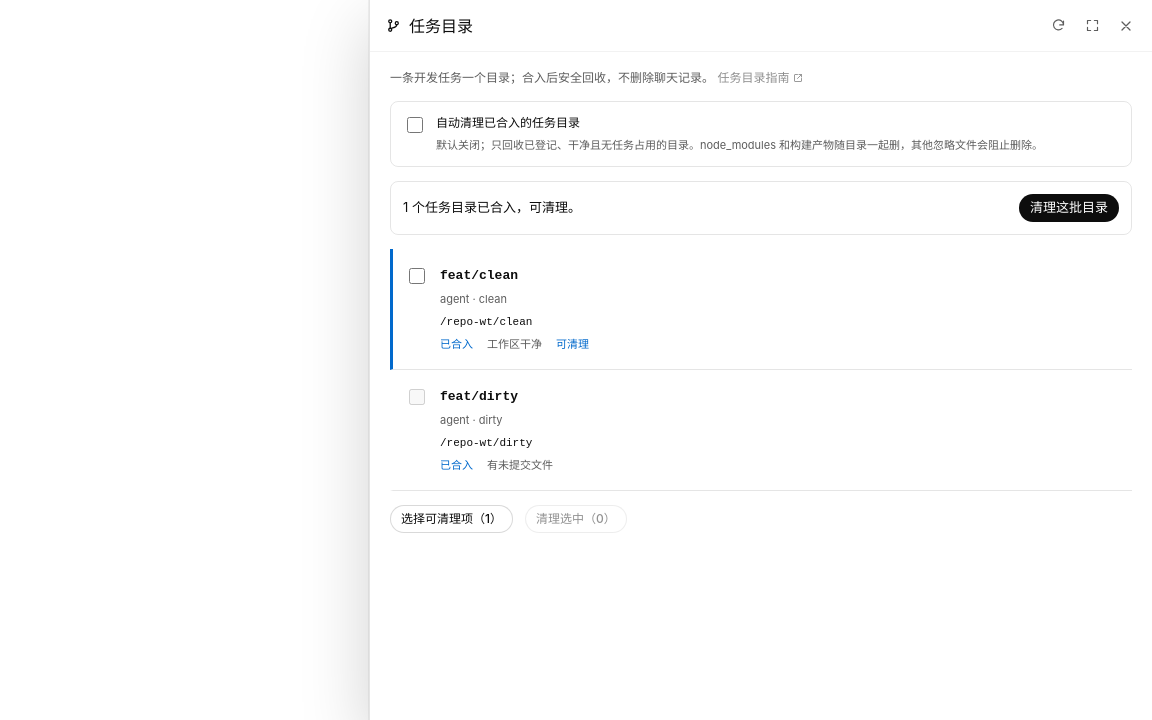
WorktreePanel › removes a stale batch action after the last eligible checkout is cleaned
Expected: the text "清理这批目录" is shown, [1030,201,1108,214]
Step 1. Click the button "选择可清理项（1）" → (452, 519), box [390,505,513,533]
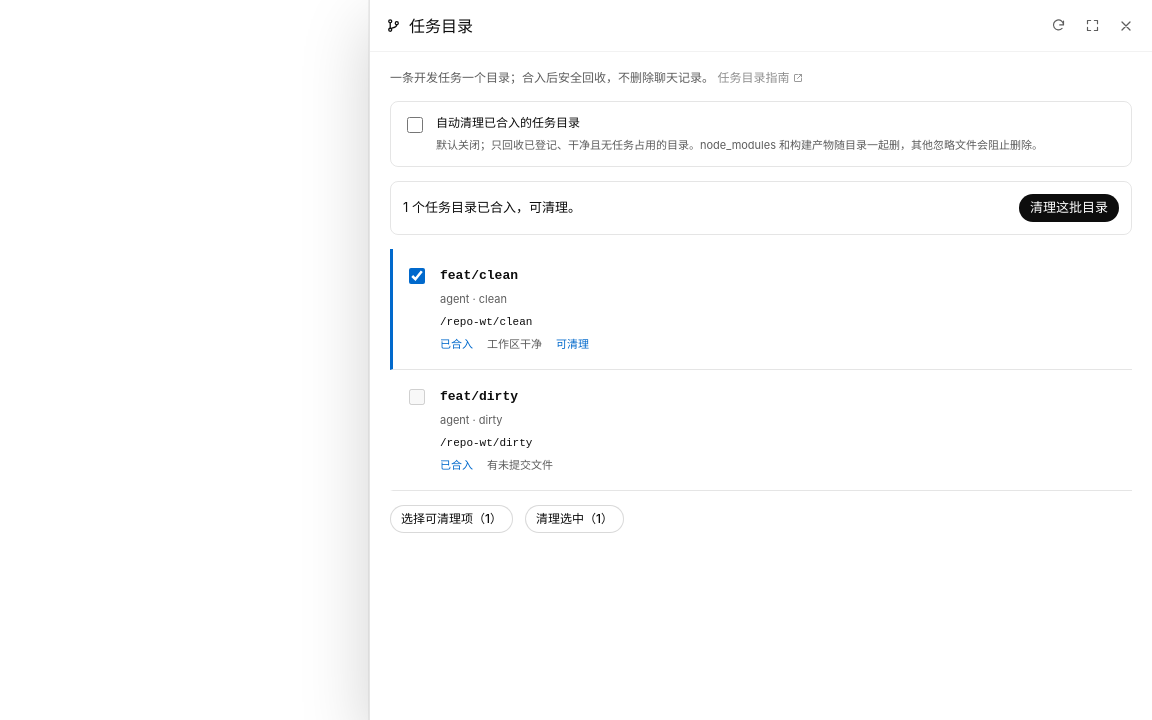
Step 2. Click the button "清理选中（1）" → (574, 519), box [525,505,624,533]
(page scrolled)
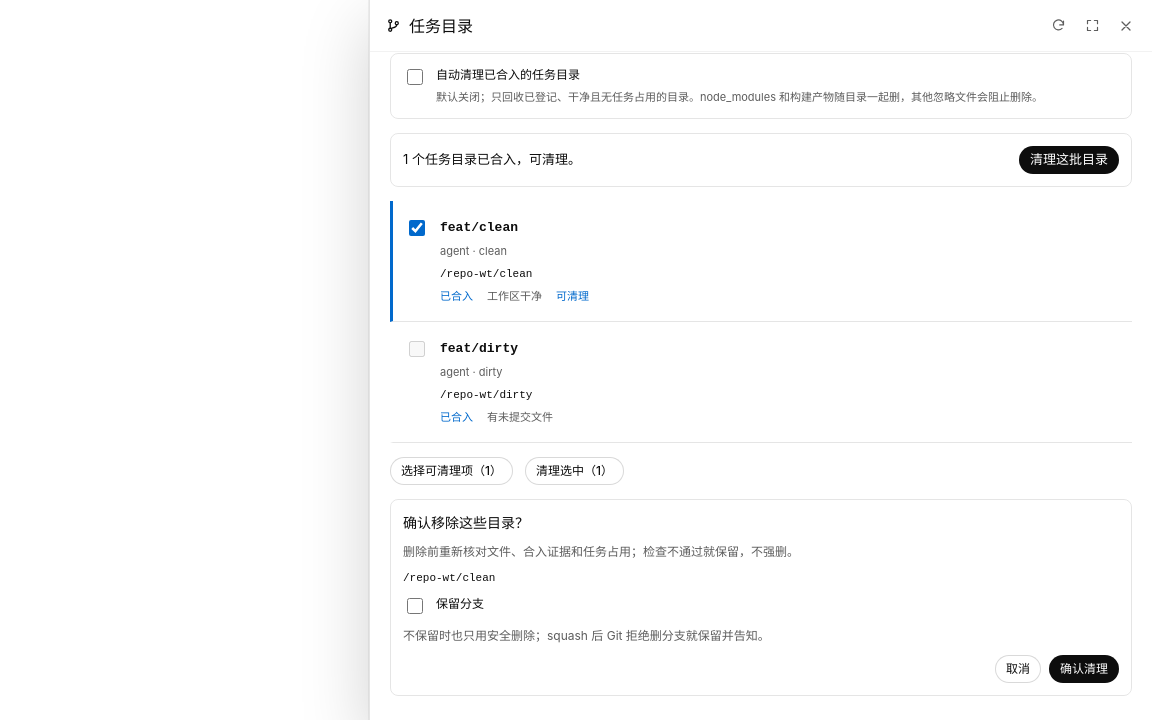
Step 3. Click the button "确认清理" → (1084, 669), box [1049,655,1119,683]
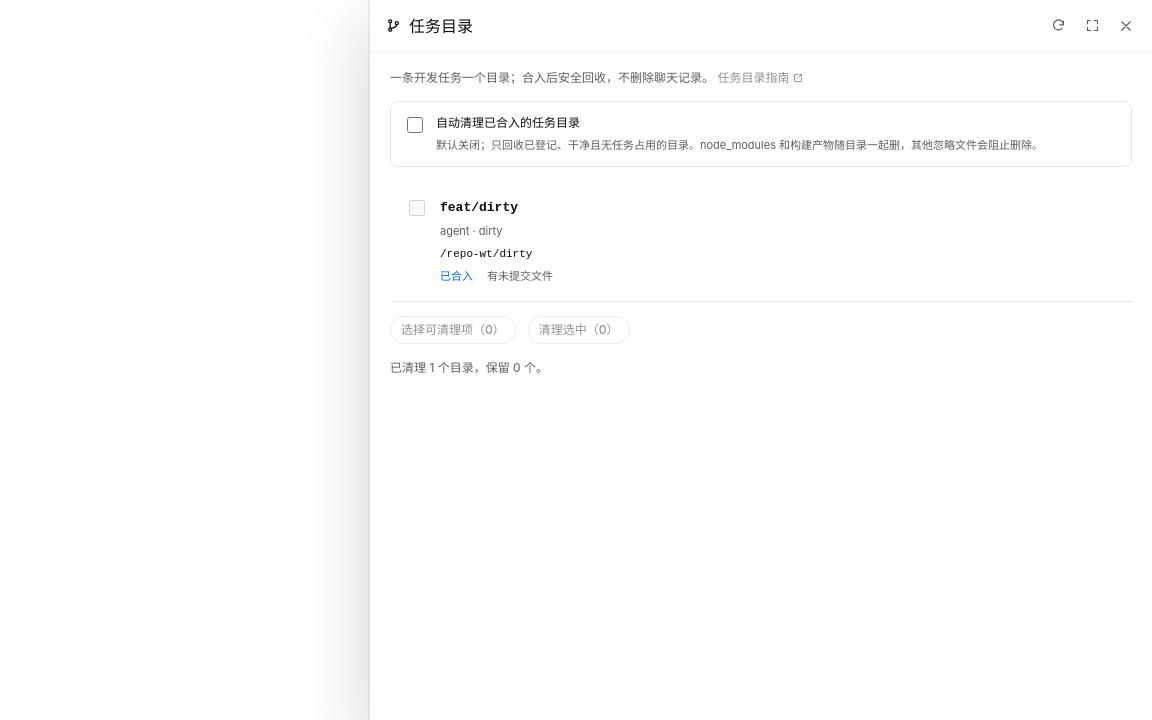
Now the button "清理这批目录" is gone
